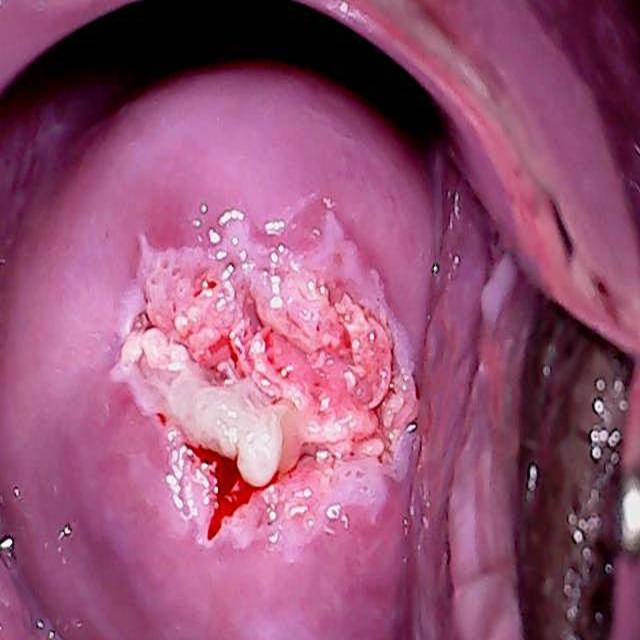cervical_lesion: (119, 188, 423, 560)
